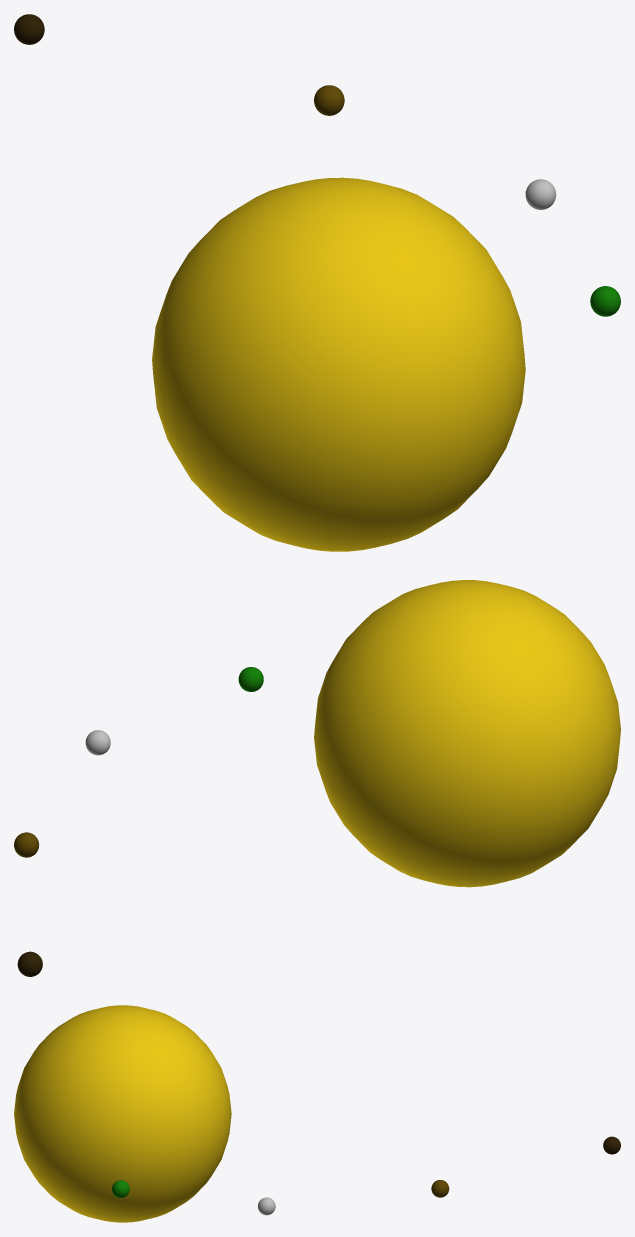
The model's file is jupiter.glb.
The picture shows the model from 3 angles, top to bottom: view 1: azimuth 30°, elevation 25°; view 2: azimuth 150°, elevation 25°; view 3: azimuth 270°, elevation 25°; orthographic projection. The views are drawn at different scales.
Visible parts, largest first — view 1: Sphere001, Sphere003, Sphere004, Sphere005, Sphere002; view 2: Sphere001; view 3: Sphere001.
Boxes of the visible parts, x1,y1,x2,y2 form: Sphere001: [152, 177, 525, 551]; Sphere003: [525, 179, 556, 209]; Sphere004: [314, 85, 344, 115]; Sphere005: [14, 14, 44, 44]; Sphere002: [590, 286, 620, 316]; Sphere001: [314, 580, 620, 887]; Sphere001: [14, 1005, 231, 1222].
Bounding box in the file's own units: 4.28 × 2.77 × 7.71.
